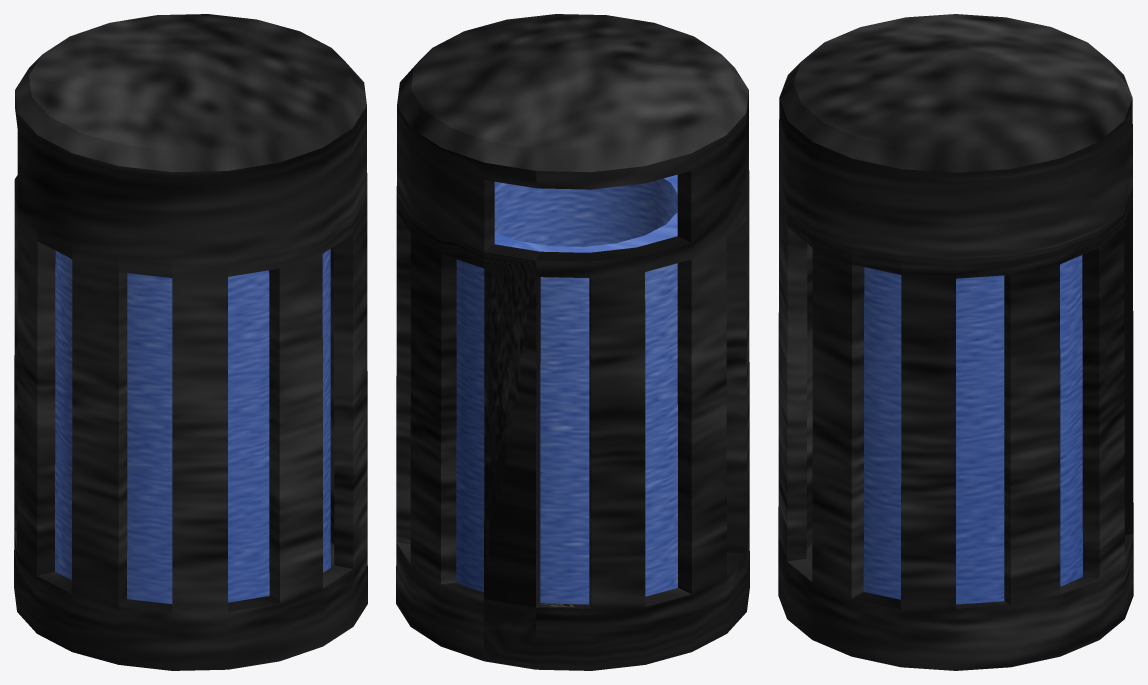
File: trashBin.fbx
3 renders of one model, left to right at view 1: azimuth 30°, elevation 25°; view 2: azimuth 150°, elevation 25°; view 3: azimuth 270°, elevation 25°, orthographic.
Parts seen in each view (by area): view 1: Trash_Bin; view 2: Trash_Bin; view 3: Trash_Bin.
Boxes of the visible parts, box(x1,y1,x2,y2) form: Trash_Bin: box(14, 14, 367, 670); Trash_Bin: box(396, 14, 749, 670); Trash_Bin: box(778, 14, 1133, 670).
Bounding box in the file's own units: 2 × 3.37 × 2.
Materials: 1 (1 with a texture image).
